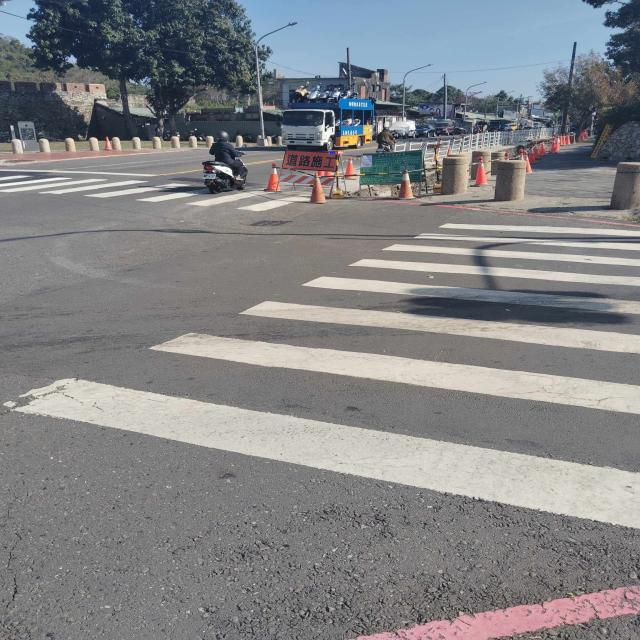zebra crossing: (17, 222, 638, 529), (0, 169, 300, 215)
